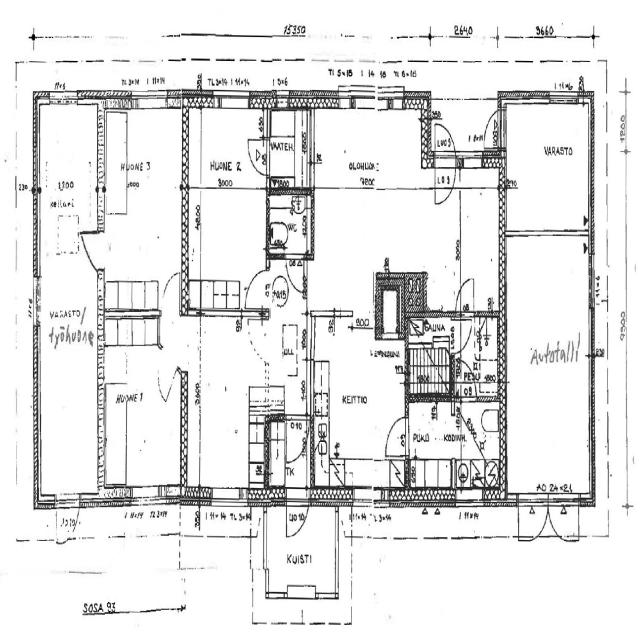door: (434, 119, 457, 178), (284, 489, 310, 541), (434, 153, 456, 208), (54, 498, 80, 544), (285, 416, 308, 466), (244, 313, 267, 363), (546, 498, 572, 542), (526, 499, 551, 542), (384, 413, 408, 457), (243, 268, 266, 313), (160, 268, 182, 314), (82, 229, 106, 271), (245, 136, 269, 175), (286, 253, 306, 295), (456, 274, 476, 315), (453, 317, 472, 353)
window: (200, 90, 262, 162), (208, 486, 247, 510), (214, 89, 252, 112), (131, 90, 169, 112), (31, 271, 43, 333), (131, 485, 163, 508), (350, 487, 380, 508), (456, 492, 484, 512), (48, 91, 78, 109), (458, 150, 485, 170), (476, 530, 514, 544), (286, 586, 319, 600), (33, 138, 42, 188), (403, 532, 431, 545), (369, 532, 396, 544)
zone: (503, 226, 591, 502), (101, 105, 184, 311), (186, 108, 268, 314), (100, 316, 181, 503), (314, 329, 407, 489), (502, 101, 594, 234), (310, 107, 430, 191), (406, 396, 502, 496), (191, 388, 266, 499), (191, 108, 266, 198), (262, 277, 310, 402), (458, 176, 502, 312), (453, 313, 502, 400), (407, 312, 452, 396), (267, 108, 311, 192), (267, 193, 311, 257)
